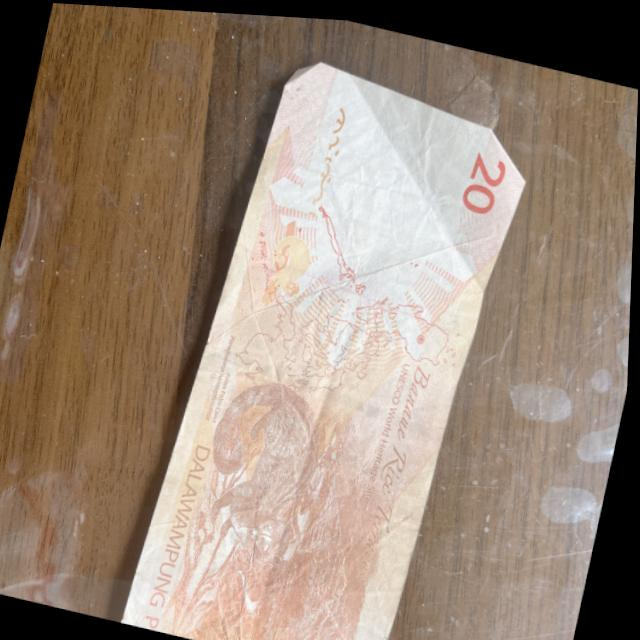20_civet: (196, 363, 346, 565)
20_civet_watermark: (260, 219, 319, 308)
